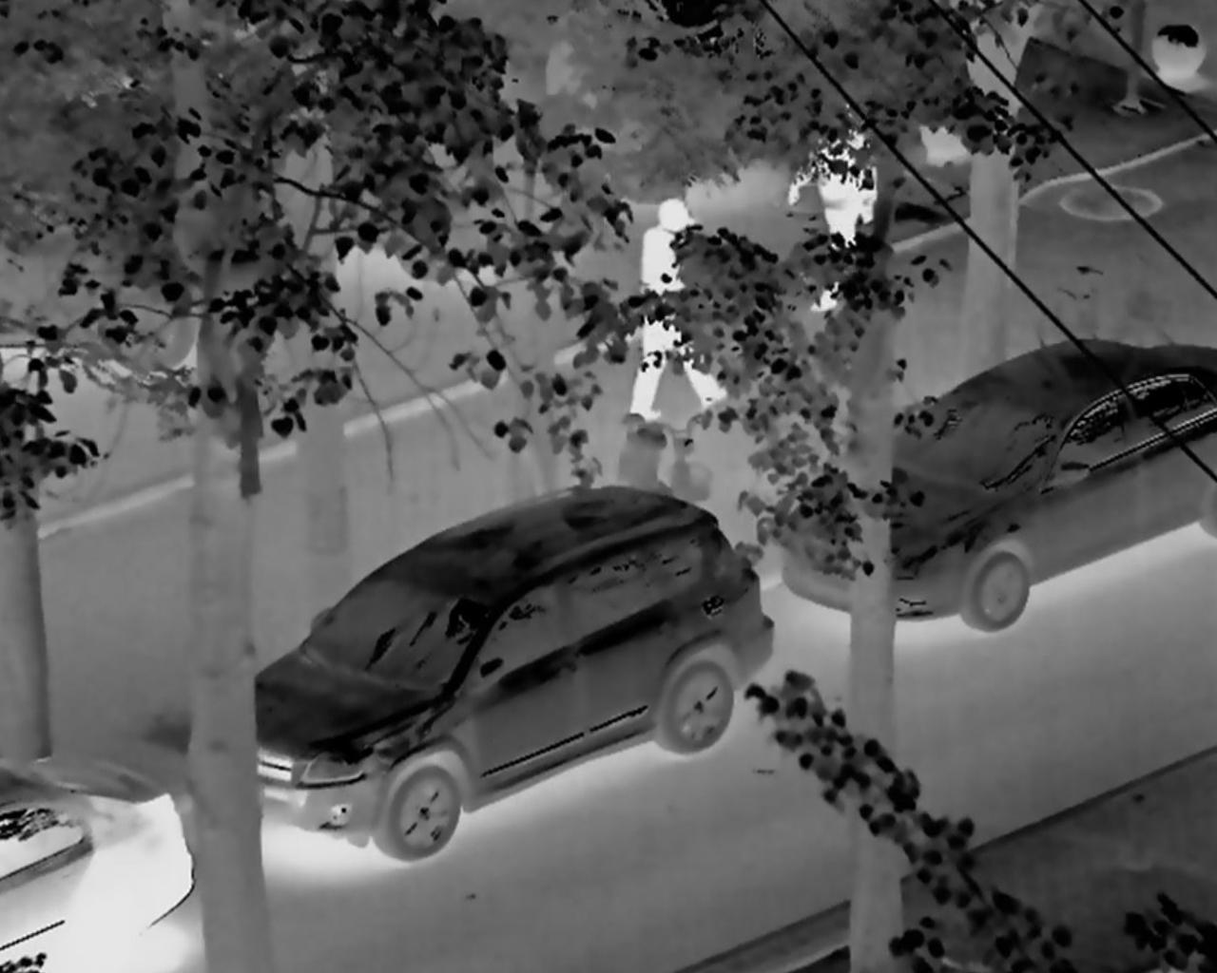person: (621, 177, 728, 444), (789, 89, 890, 305)
